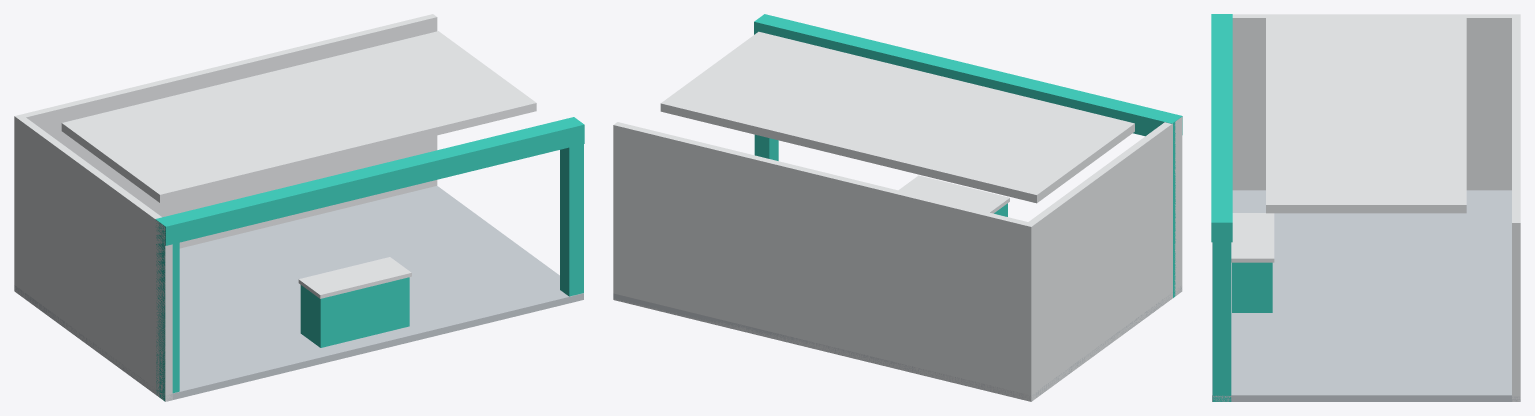
3 renders of one model, left to right at view 1: azimuth 30°, elevation 25°; view 2: azimuth 150°, elevation 25°; view 3: azimuth 270°, elevation 25°, orthographic. The views are drawn at different scales.
Visible parts, largest first — view 1: Exhibition Booth Concept; view 2: Exhibition Booth Concept; view 3: Exhibition Booth Concept.
Boxes of the visible parts, x1,y1,x2,y2 form: Exhibition Booth Concept: [14, 14, 584, 401]; Exhibition Booth Concept: [613, 14, 1182, 401]; Exhibition Booth Concept: [1211, 14, 1520, 401].
Size of the model in its own units: 8 by 3.34 by 5.02.
